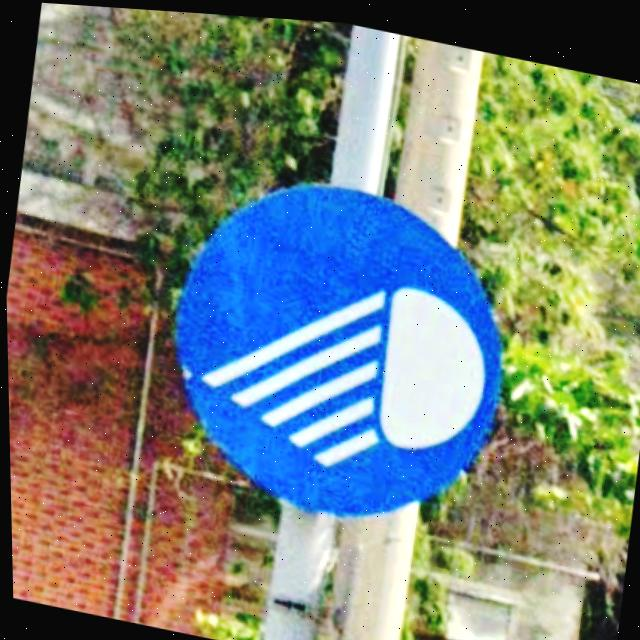lightson: (176, 182, 499, 512)
